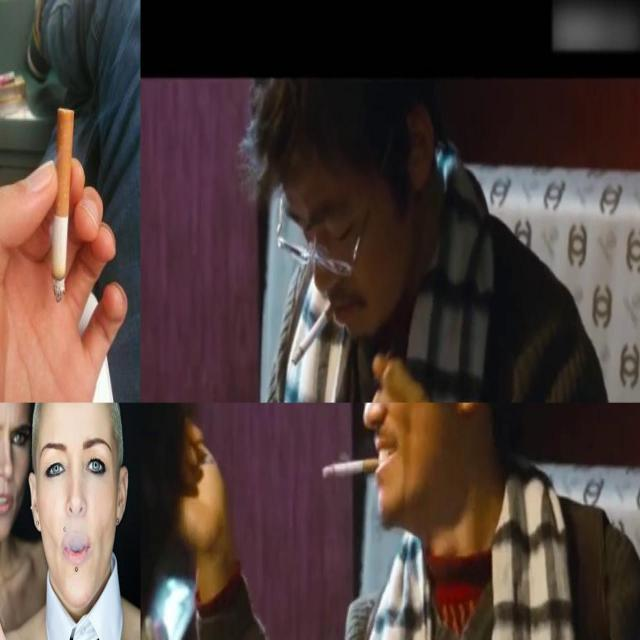rokok: (50, 106, 76, 304), (288, 299, 338, 369), (322, 454, 380, 478)
